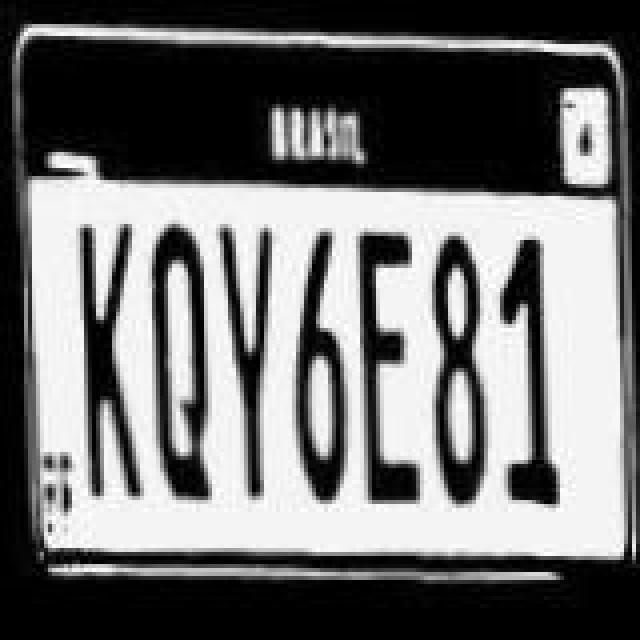1: (494, 228, 562, 516)
6: (286, 228, 354, 512)
8: (424, 228, 496, 508)
E: (354, 210, 422, 518)
K: (72, 210, 144, 518)
Q: (142, 204, 218, 508)
Y: (214, 222, 282, 506)
